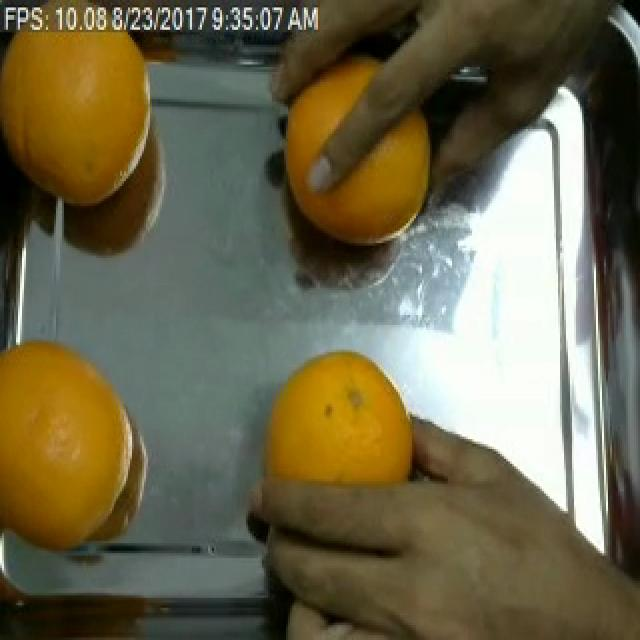Fruit: (0, 10, 154, 238)
